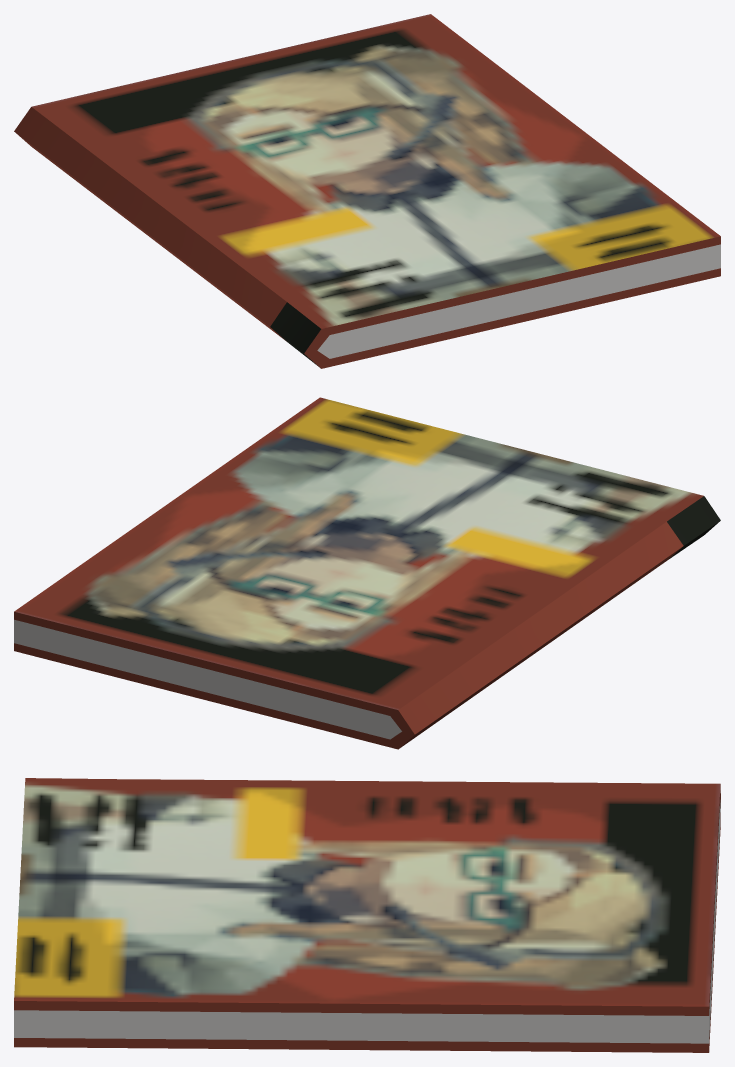
Rendered from SM_Prop_Book_Magazine_01.fbx.
The picture shows the model from 3 angles, top to bottom: view 1: azimuth 30°, elevation 25°; view 2: azimuth 150°, elevation 25°; view 3: azimuth 270°, elevation 25°; orthographic projection. The views are drawn at different scales.
Parts seen in each view (by area): view 1: SM_Prop_Book_Magazine_01; view 2: SM_Prop_Book_Magazine_01; view 3: SM_Prop_Book_Magazine_01.
Part boxes in pixels (box(x1,y1,x2,y2)): SM_Prop_Book_Magazine_01: box(14, 14, 720, 368); SM_Prop_Book_Magazine_01: box(14, 397, 720, 749); SM_Prop_Book_Magazine_01: box(14, 778, 720, 1052).
Size of the model in its own units: 30.84 by 2.79 by 38.66.
